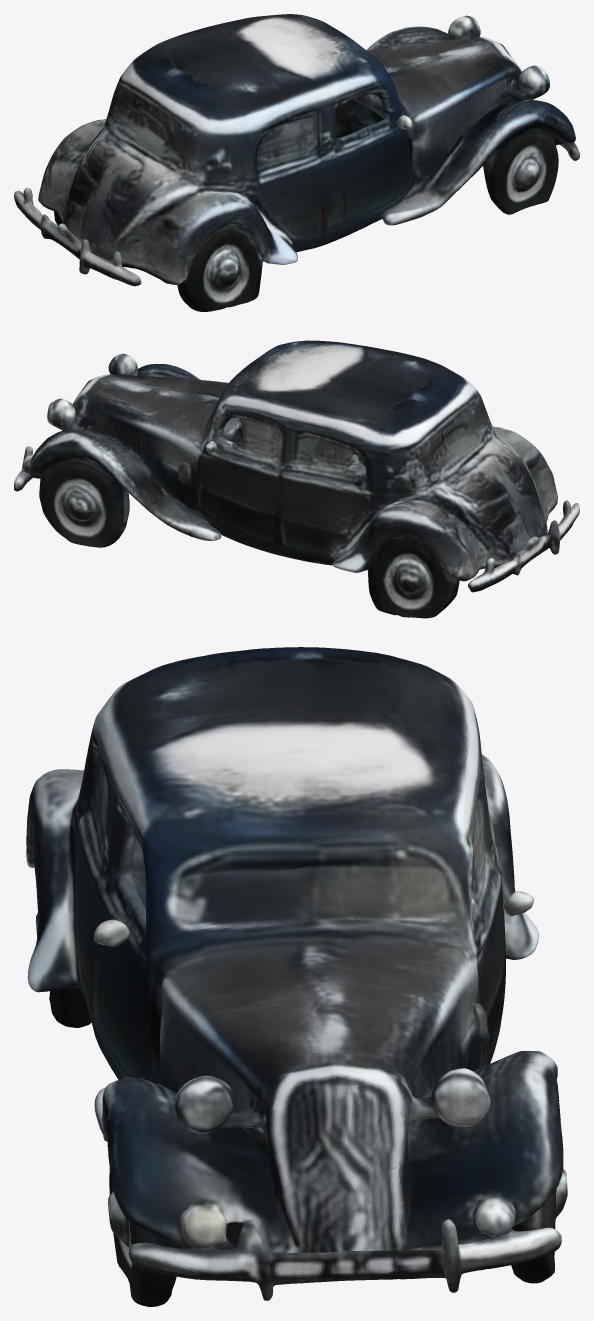
File: sample_2026-10-09T183055.354.unmodified_export.glb
3 views of the same model, one above another, from view 1: azimuth 30°, elevation 25°; view 2: azimuth 150°, elevation 25°; view 3: azimuth 270°, elevation 25° (orthographic). The views are drawn at different scales.
Visible parts, largest first — view 1: world; view 2: world; view 3: world.
Part boxes in pixels (x1,y1,x2,y2): world: [14, 14, 579, 311]; world: [14, 340, 579, 618]; world: [26, 647, 567, 1306].
Bounding box in the file's own units: 1 × 0.3641 × 0.4934.
Materials: 1 (1 with a texture image).
